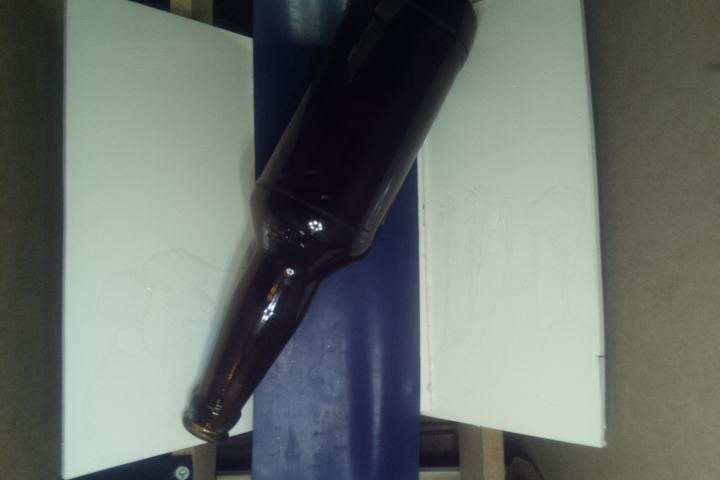makju: (186, 1, 478, 444)
